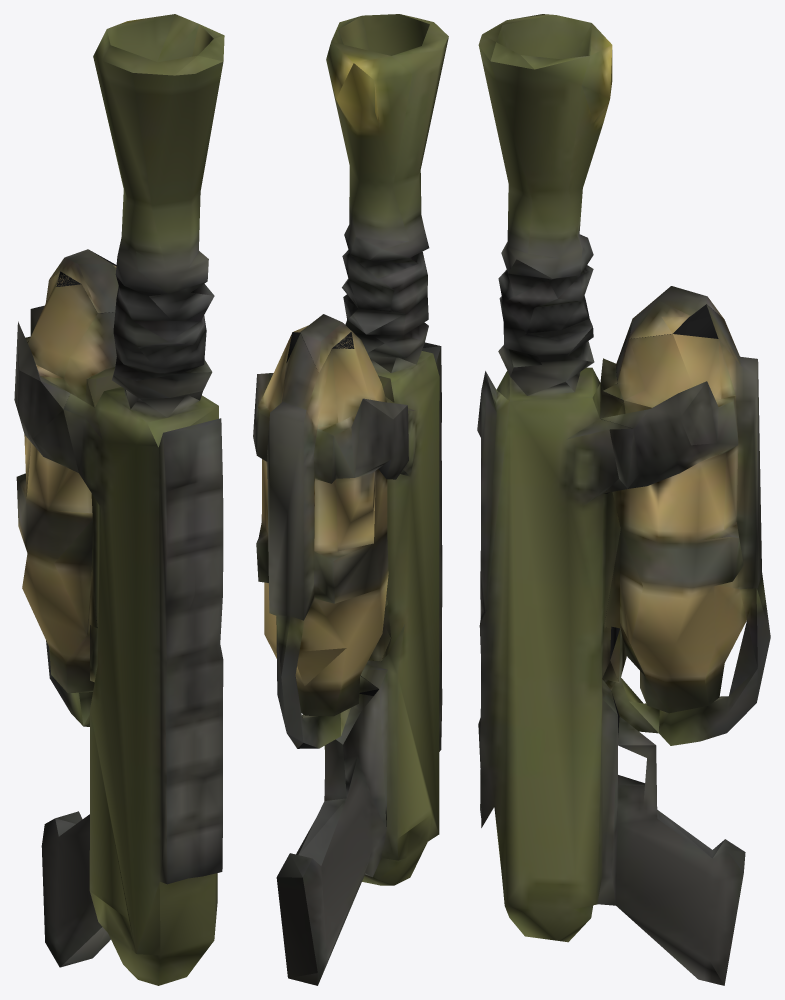
Rendered from dragon.glb.
3 views of the same model, side by side, from view 1: azimuth 30°, elevation 25°; view 2: azimuth 150°, elevation 25°; view 3: azimuth 270°, elevation 25° (orthographic). The views are drawn at different scales.
Parts seen in each view (by area): view 1: dragon, part_mag; view 2: dragon, part_mag; view 3: dragon, part_mag.
Boxes of the visible parts, box(x1,y1,x2,y2) form: dragon: box(41, 14, 224, 985); part_mag: box(14, 261, 116, 726); dragon: box(276, 14, 448, 985); part_mag: box(253, 332, 408, 748); dragon: box(477, 14, 745, 985); part_mag: box(600, 304, 770, 745).
Size of the model in its own units: 0.1444 by 0.9009 by 0.253.
1 material, 1 textured.
